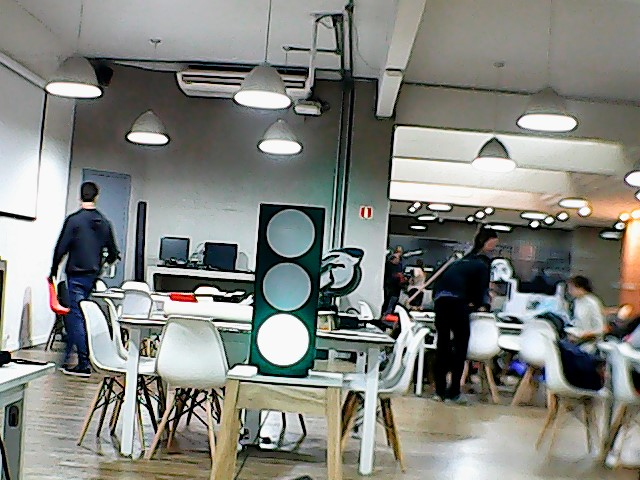verde: (231, 194, 329, 378)
